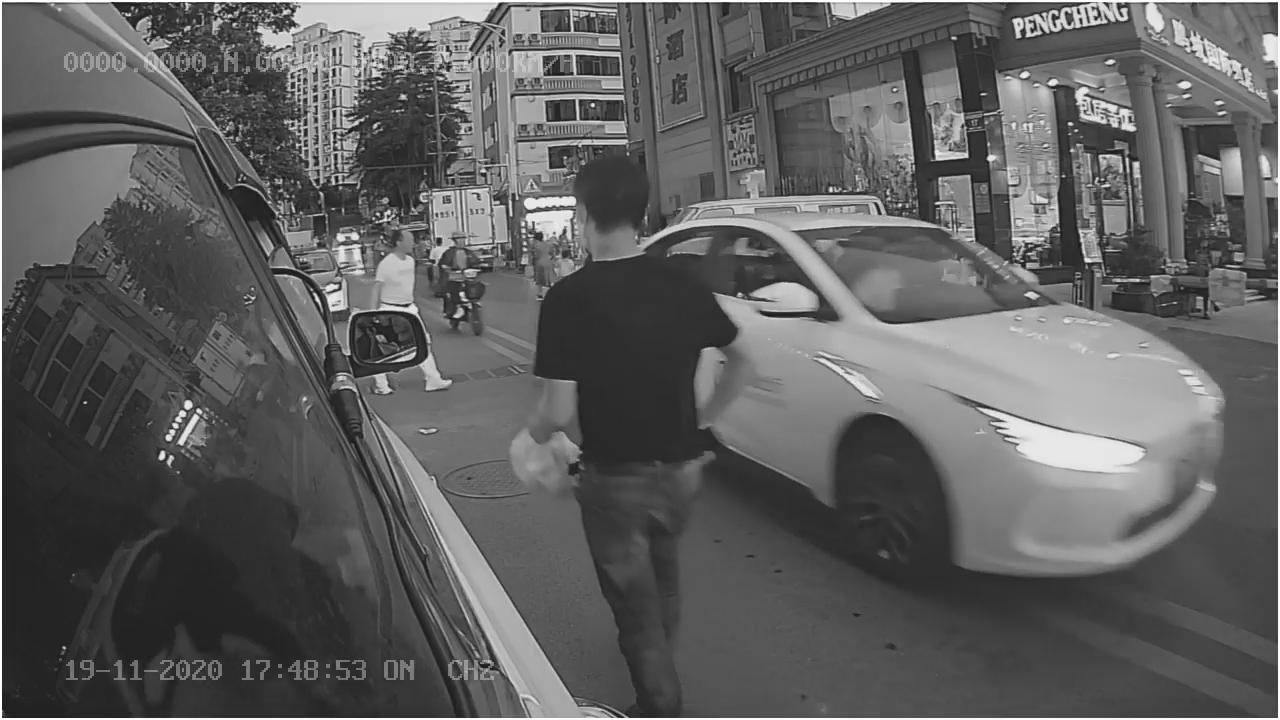person: (531, 154, 759, 623)
